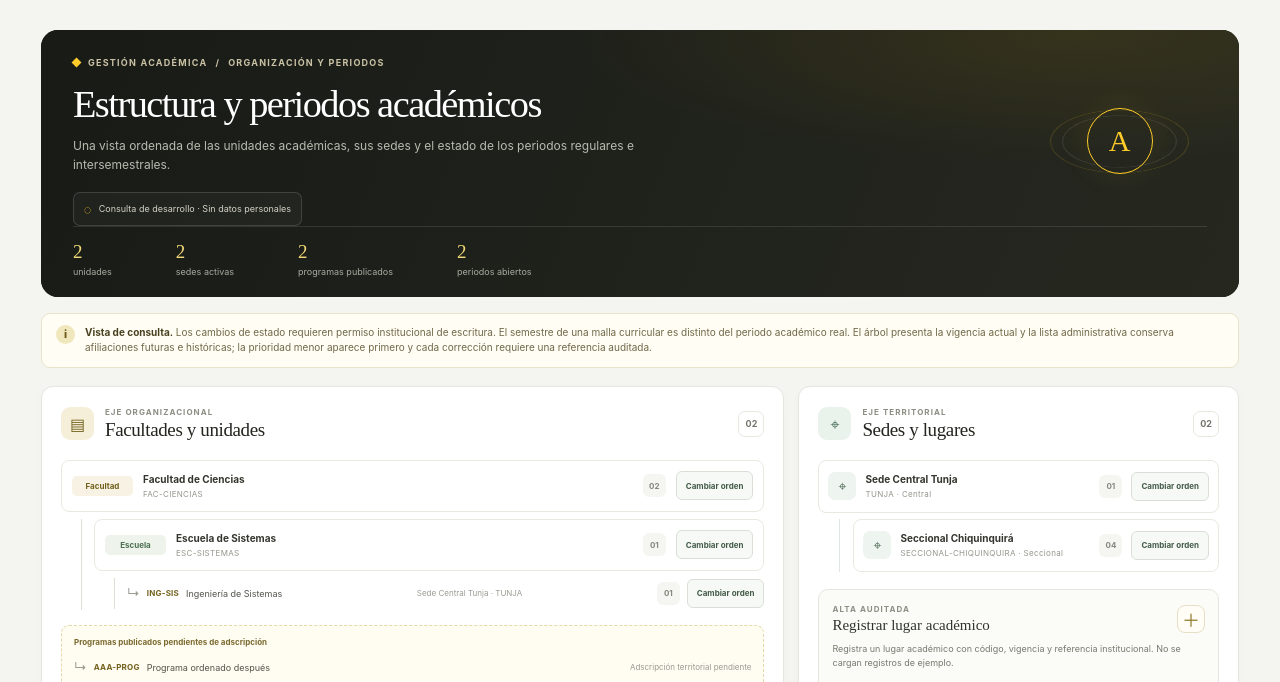
Test: AcademicOperationsPage › refreshes the displayed structure and reports a concurrent order conflict
The width and height of the screenshot is (1280, 682).
Click the button with aria-label "Cambiar orden de Sede Central Tunja" at (1170, 486), box [1131, 472, 1209, 501]
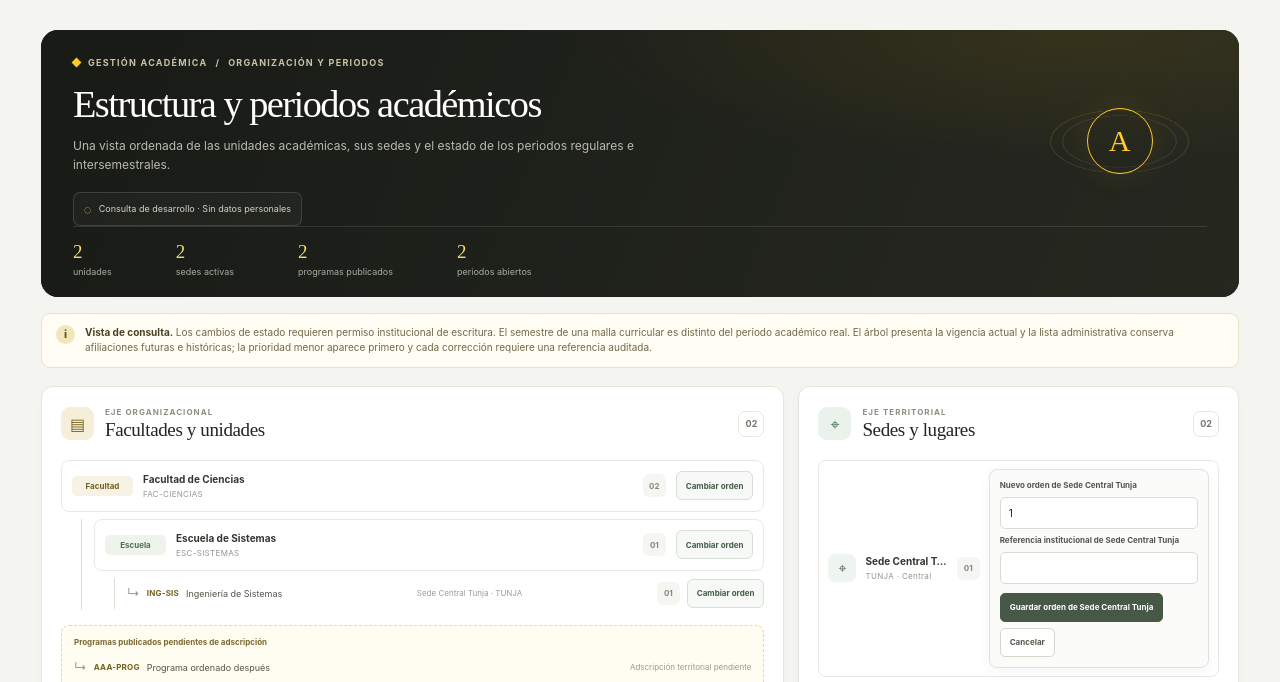
Replace the text in the number field labelled "Nuevo orden de Sede Central Tunja" with "5" at (1099, 513), box [1000, 497, 1198, 529]
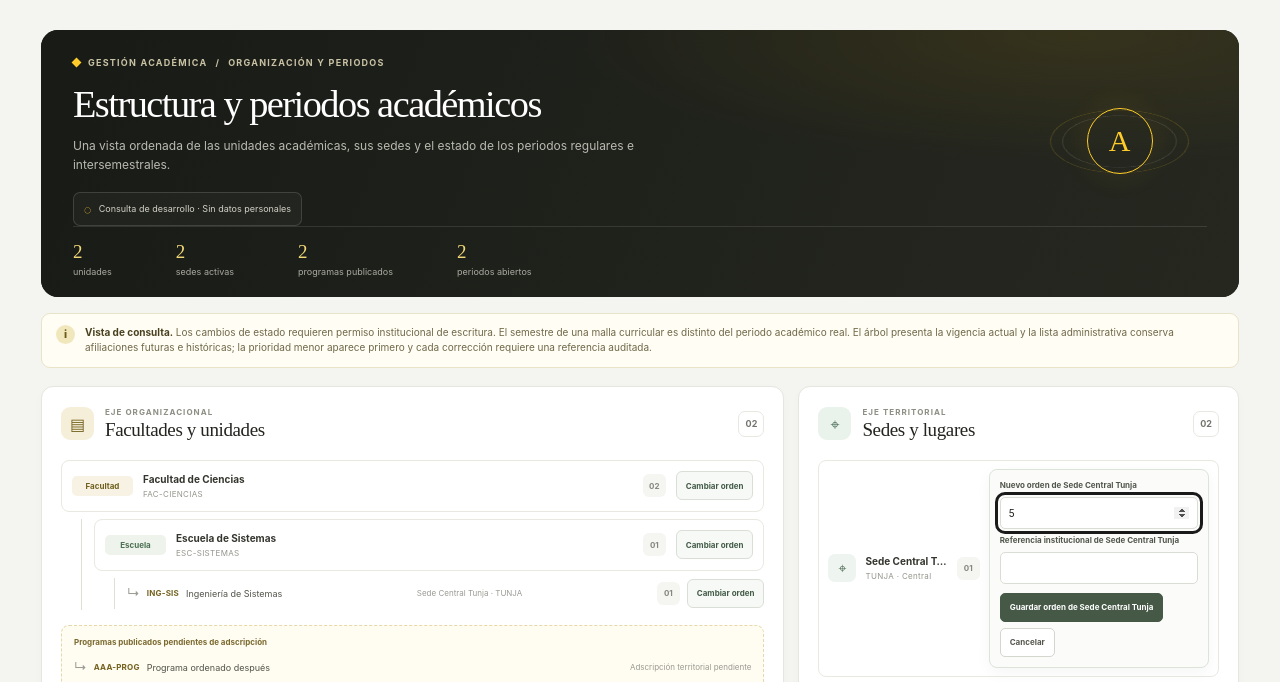
Type "Acta de organización 8" into the field labelled "Referencia institucional de Sede Central Tunja" at (1099, 568), box [1000, 552, 1198, 584]
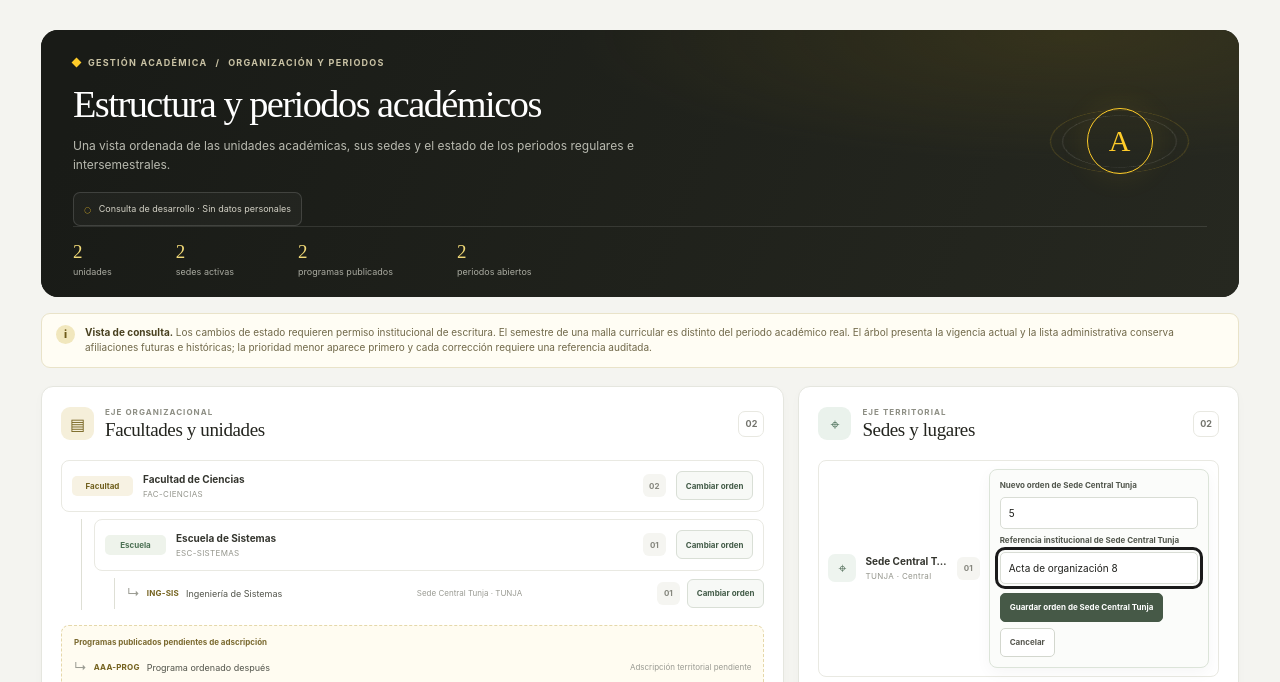
Click the button "Guardar orden de Sede Central Tunja" at (1082, 608), box [1000, 593, 1163, 622]
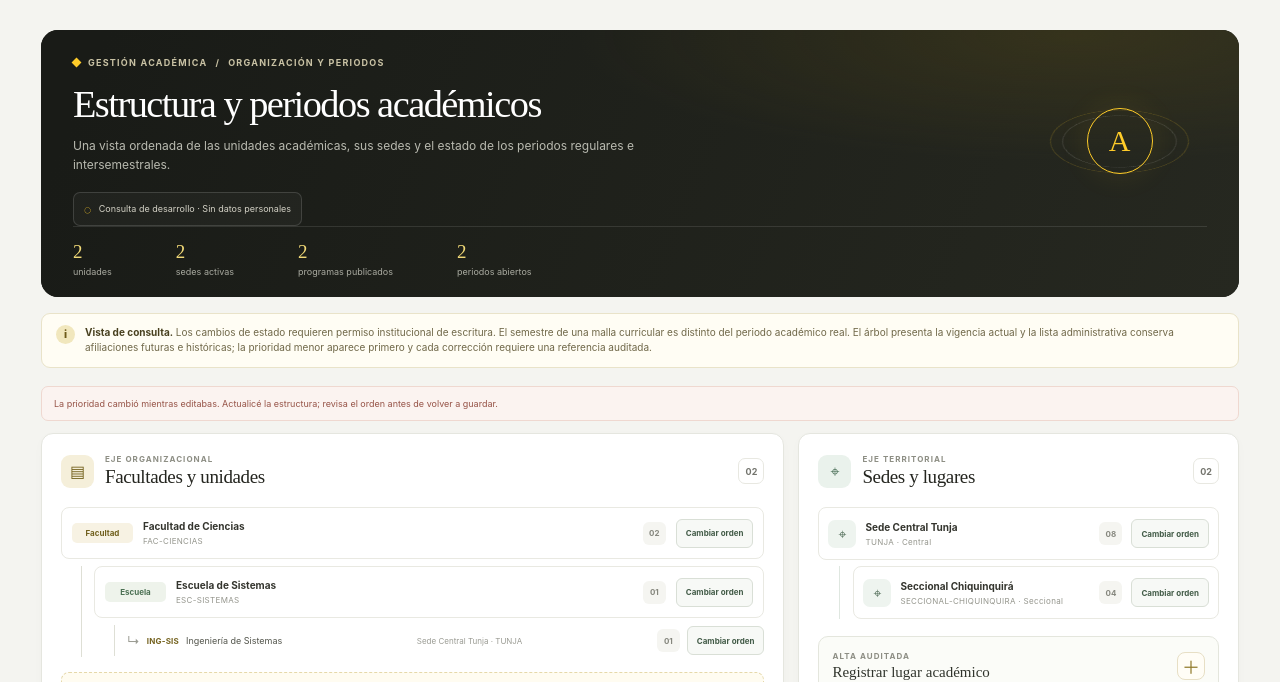
Expected: the text "08" is shown, [1099, 522, 1122, 545]
